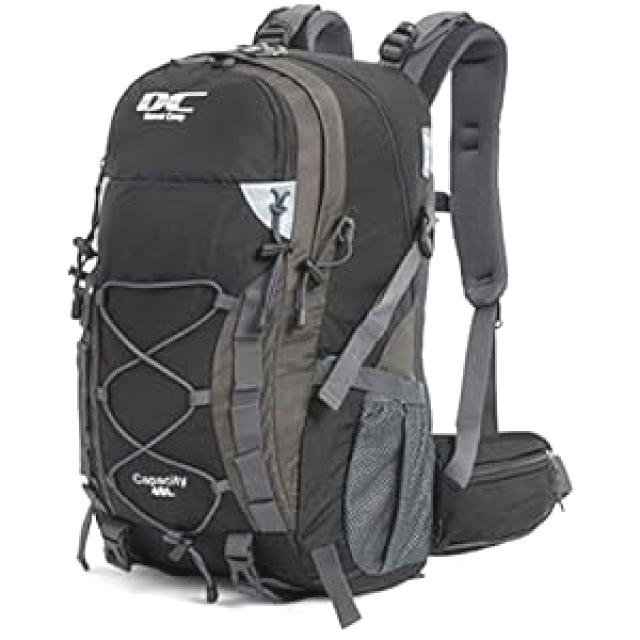backpack: (67, 3, 573, 626)
